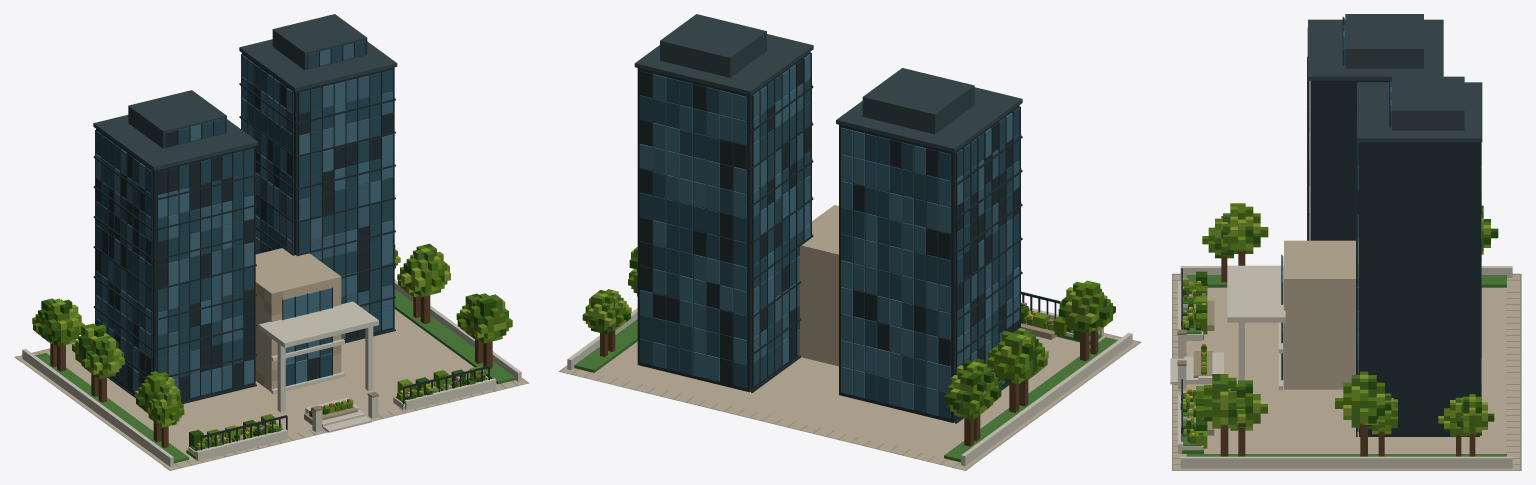
The model's file is SM_Mapa_025.fbx.
3 views of the same model, side by side, from view 1: azimuth 30°, elevation 25°; view 2: azimuth 150°, elevation 25°; view 3: azimuth 270°, elevation 25° (orthographic). The views are drawn at different scales.
Visible parts, largest first — view 1: SM_Mapa_025; view 2: SM_Mapa_025; view 3: SM_Mapa_025.
Boxes of the visible parts, x1,y1,x2,y2 form: SM_Mapa_025: (14, 14, 529, 470); SM_Mapa_025: (559, 14, 1141, 470); SM_Mapa_025: (1170, 14, 1521, 470).
Bounding box in the file's own units: 14 × 10.37 × 10.59.
